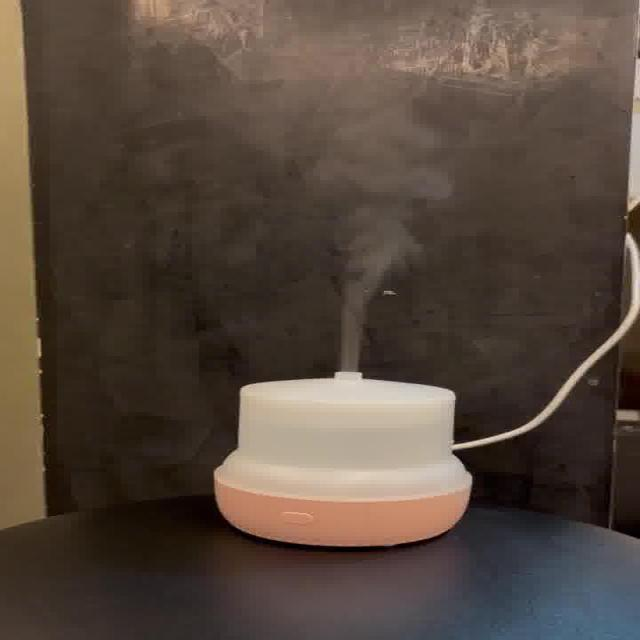fire: (316, 156, 446, 372)
